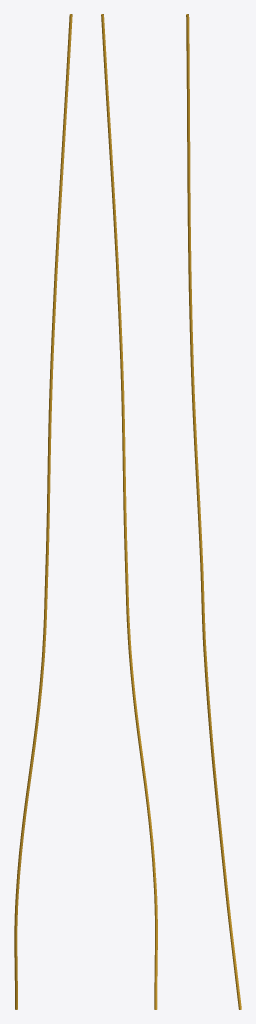
Rendered from nervoso-anterior-cutaneous-branches-of-femoral-nerve-l.glb.
3 renders of one model, left to right at view 1: azimuth 30°, elevation 25°; view 2: azimuth 210°, elevation 25°; view 3: azimuth 270°, elevation 25°, orthographic. The views are drawn at different scales.
Parts seen in each view (by area): view 1: Anterior cutaneous branches of femoral nerve.l; view 2: Anterior cutaneous branches of femoral nerve.l; view 3: Anterior cutaneous branches of femoral nerve.l.
Boxes of the visible parts, x1,y1,x2,y2 form: Anterior cutaneous branches of femoral nerve.l: [14, 14, 72, 1009]; Anterior cutaneous branches of femoral nerve.l: [101, 14, 157, 1009]; Anterior cutaneous branches of femoral nerve.l: [186, 14, 241, 1009].
Size of the model in its own units: 0.014 by 0.361 by 0.0181.
